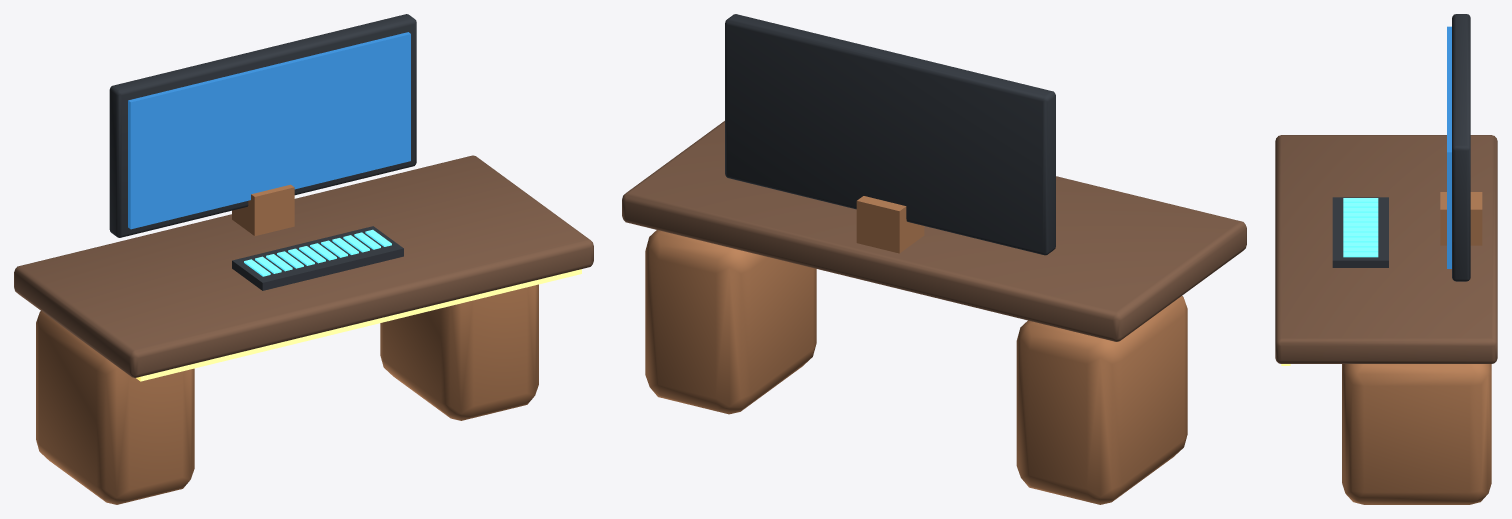
Rendered from desk.glb.
3 views of the same model, side by side, from view 1: azimuth 30°, elevation 25°; view 2: azimuth 150°, elevation 25°; view 3: azimuth 270°, elevation 25° (orthographic). The views are drawn at different scales.
Parts seen in each view (by area): view 1: root_wood, root_copper, root_screen, root_charcoal, root_blue, root_warm; view 2: root_copper, root_charcoal, root_wood; view 3: root_wood, root_copper, root_charcoal, root_blue, root_screen.
Part boxes in pixels (x1,y1,x2,y2): root_wood: (14,155,593,377); root_copper: (36,184,538,504); root_screen: (128,32,410,229); root_charcoal: (109,14,416,290); root_blue: (244,229,391,276); root_warm: (136,269,581,381); root_copper: (645,196,1187,504); root_charcoal: (725,14,1055,255); root_wood: (622,121,1246,341); root_wood: (1275,135,1497,363); root_copper: (1342,192,1491,504); root_charcoal: (1332,14,1470,281); root_blue: (1343,198,1378,257); root_screen: (1447,26,1451,268).
Size of the model in its own units: 2.1 by 1.58 by 0.95.
